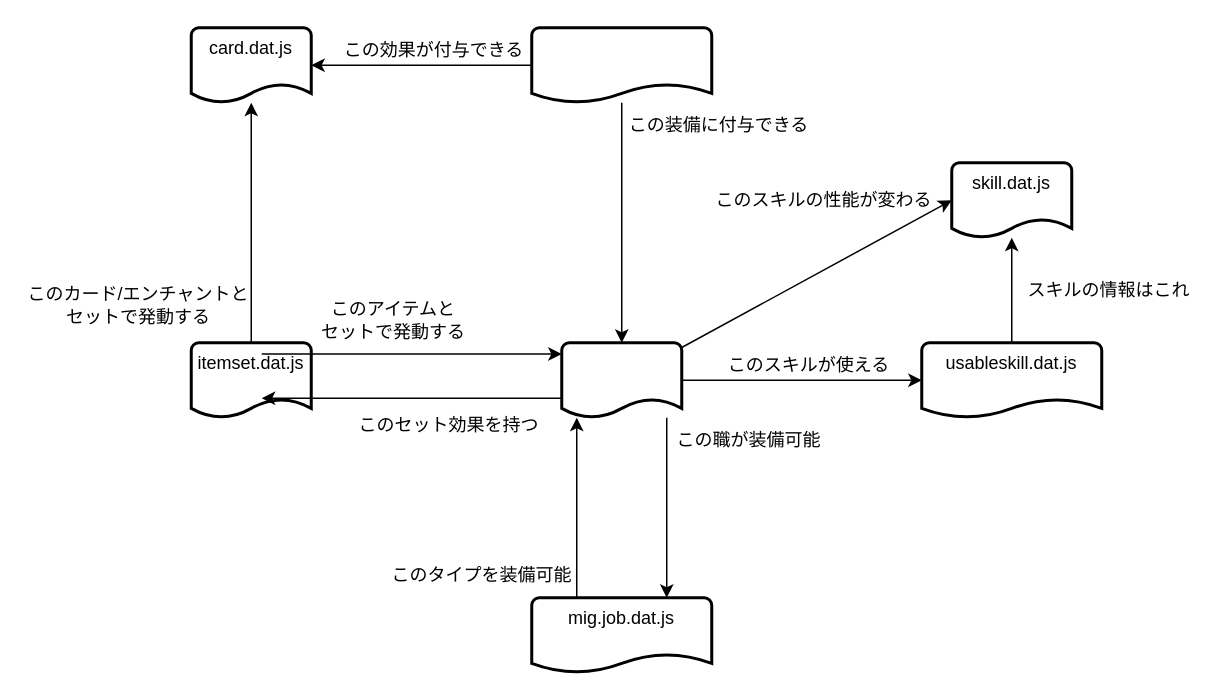
Some shapes in this 1217 by 699 pixel diagram are drawn without their labels. Here are the shapes that lost their labels. From the top down, the centre of each, then its label:
point (621, 65): mig.enchlist.dat.js
point (621, 379): item.dat.js
